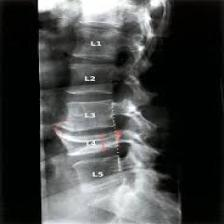compression-crush-fracture: (40, 0, 190, 224)
